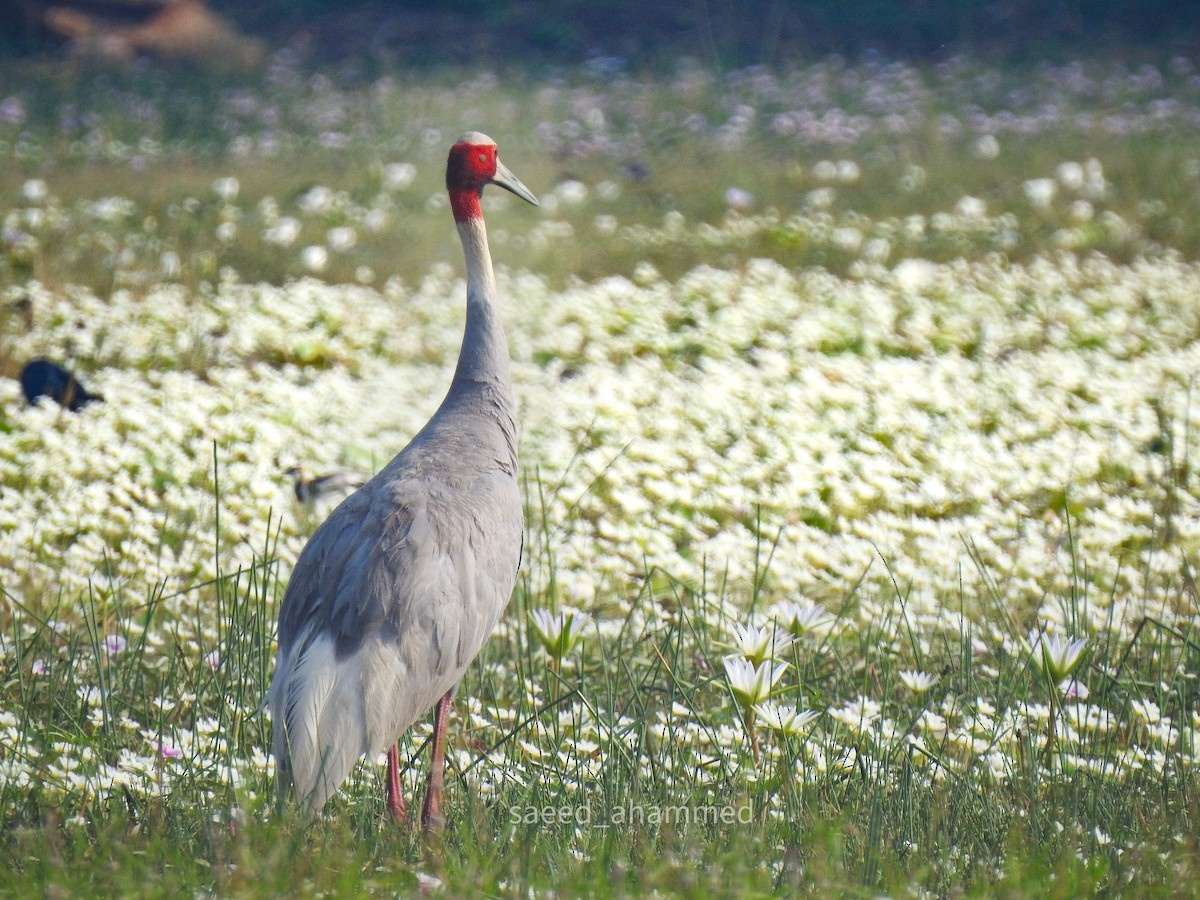crane: (237, 130, 552, 861)
